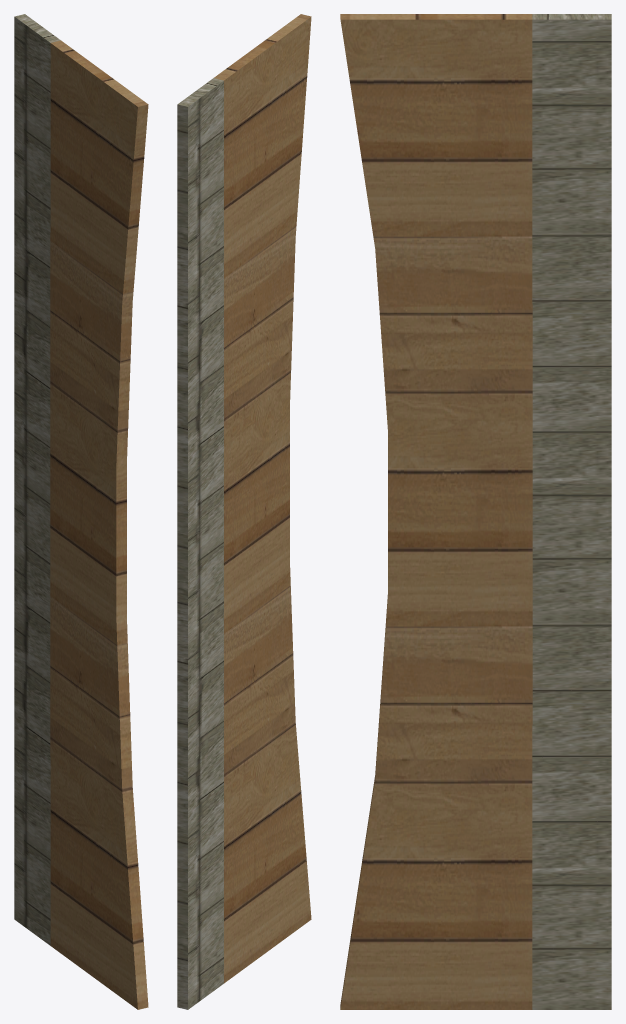
The model's file is nt_concrete_fence_320_tall_LOD1.obj.
3 renders of one model, left to right at view 1: azimuth 30°, elevation 25°; view 2: azimuth 150°, elevation 25°; view 3: azimuth 270°, elevation 25°, orthographic. The views are drawn at different scales.
Visible parts, largest first — view 1: nt_wood_fence, nt_2020_concrete_pattern_02; view 2: nt_wood_fence, nt_2020_concrete_pattern_02; view 3: nt_wood_fence, nt_2020_concrete_pattern_02.
Boxes of the visible parts, x1,y1,x2,y2 form: nt_wood_fence: [50, 40, 148, 1009]; nt_2020_concrete_pattern_02: [14, 14, 60, 945]; nt_wood_fence: [214, 14, 311, 983]; nt_2020_concrete_pattern_02: [177, 78, 223, 1009]; nt_wood_fence: [340, 14, 532, 1009]; nt_2020_concrete_pattern_02: [532, 14, 611, 1009].
Size of the model in its own units: 9.92 by 813 by 202.
